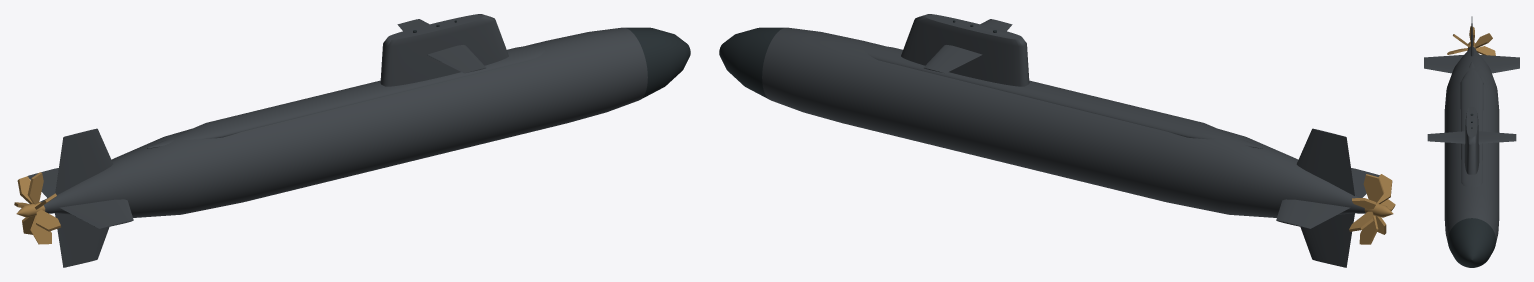
File: pla_ssk_type039a.glb
3 renders of one model, left to right at view 1: azimuth 30°, elevation 25°; view 2: azimuth 150°, elevation 25°; view 3: azimuth 270°, elevation 25°, orthographic. The views are drawn at different scales.
Visible parts, largest first — view 1: submarine_coating, boot_topping, bronze; view 2: submarine_coating, boot_topping, bronze; view 3: submarine_coating, boot_topping, bronze.
Boxes of the visible parts, bbox=[...] form: submarine_coating: bbox=[27, 14, 647, 267]; boot_topping: bbox=[413, 20, 690, 98]; bronze: bbox=[14, 172, 60, 244]; submarine_coating: bbox=[762, 14, 1379, 267]; boot_topping: bbox=[719, 20, 996, 98]; bronze: bbox=[1349, 174, 1395, 244]; submarine_coating: bbox=[1424, 16, 1519, 242]; boot_topping: bbox=[1448, 113, 1495, 267]; bronze: bbox=[1447, 26, 1495, 55].
Bounding box in the file's own units: 10 × 2.15 × 1.86.
